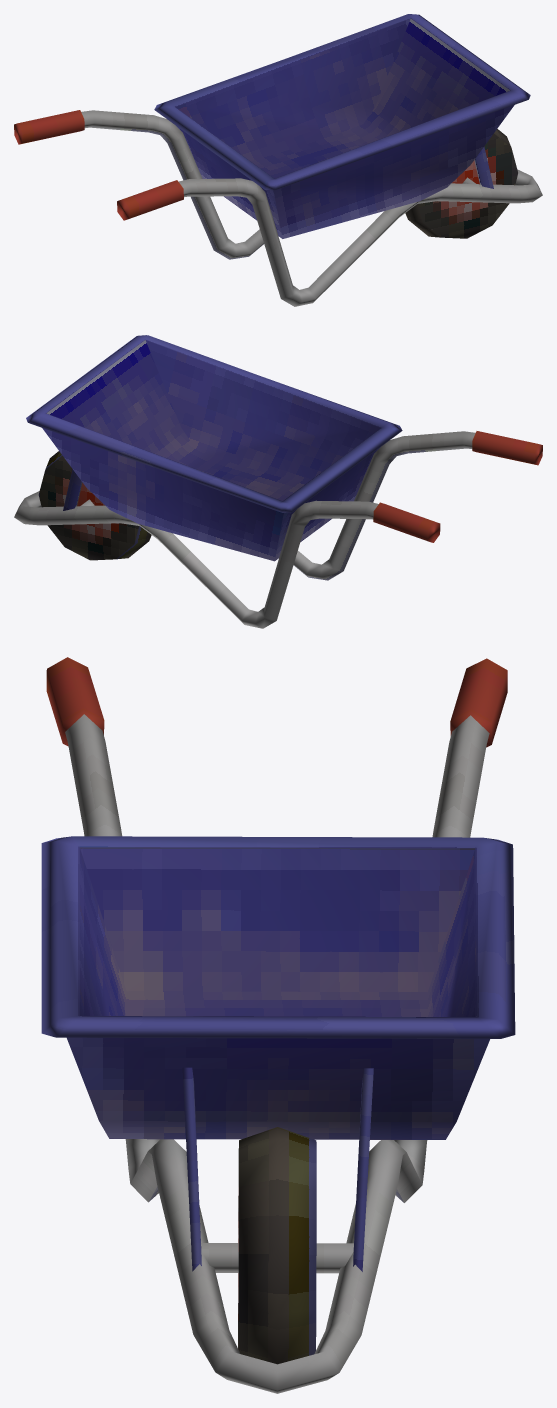
The model's file is objects_un_t03farmtools03.gltf.
3 renders of one model, top to bottom at view 1: azimuth 30°, elevation 25°; view 2: azimuth 150°, elevation 25°; view 3: azimuth 270°, elevation 25°, orthographic. The views are drawn at different scales.
Parts seen in each view (by area): view 1: objects_un_t03farmtools03_mesh_shape:objects_un_t03farmtools; view 2: objects_un_t03farmtools03_mesh_shape:objects_un_t03farmtools; view 3: objects_un_t03farmtools03_mesh_shape:objects_un_t03farmtools.
Part boxes in pixels (x1,y1,x2,y2): objects_un_t03farmtools03_mesh_shape:objects_un_t03farmtools: (14,14,542,306); objects_un_t03farmtools03_mesh_shape:objects_un_t03farmtools: (14,335,542,628); objects_un_t03farmtools03_mesh_shape:objects_un_t03farmtools: (41,657,515,1393).
Size of what is drawn, in the model's own units: 1.77 by 0.6608 by 0.7742.
1 material, 1 textured.
